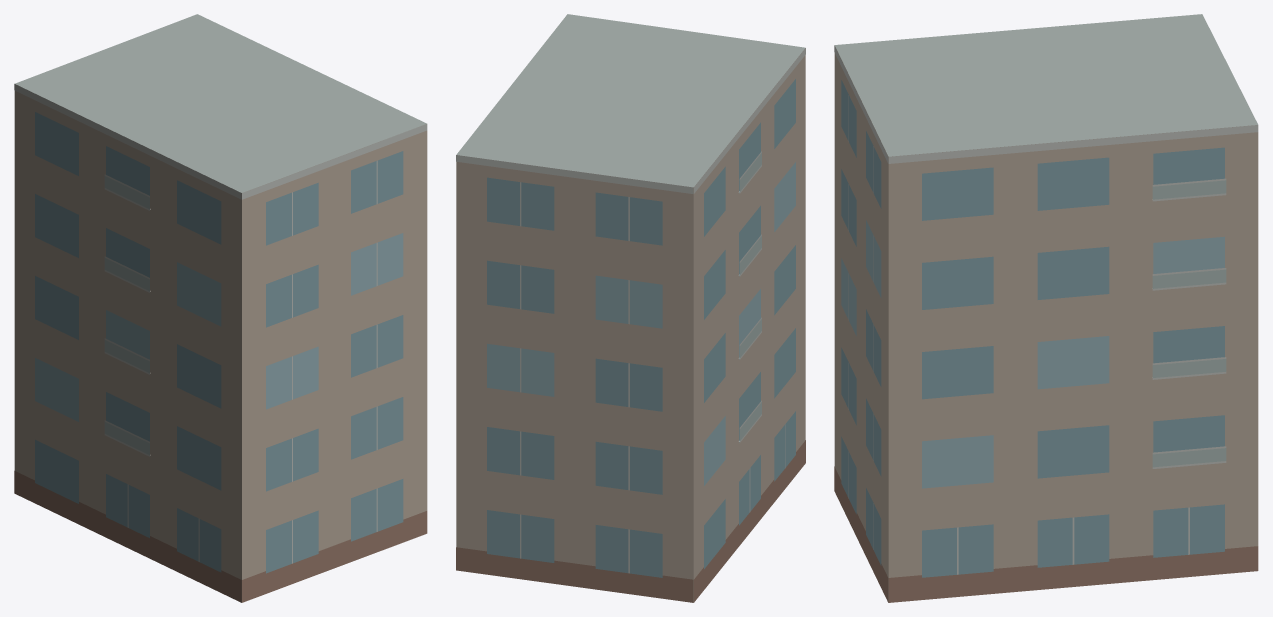
Rendered from survey-upis-32497383.glb.
The picture shows the model from 3 angles, left to right: view 1: azimuth 30°, elevation 25°; view 2: azimuth 150°, elevation 25°; view 3: azimuth 270°, elevation 25°; orthographic projection. The views are drawn at different scales.
Parts seen in each view (by area): view 1: survey-upis-32497383.tmp; view 2: survey-upis-32497383.tmp; view 3: survey-upis-32497383.tmp.
Boxes of the visible parts, bbox=[...] form: survey-upis-32497383.tmp: bbox=[14, 14, 427, 602]; survey-upis-32497383.tmp: bbox=[456, 14, 805, 602]; survey-upis-32497383.tmp: bbox=[834, 14, 1258, 602].
Bounding box in the file's own units: 10.27 × 14.95 × 12.88.
